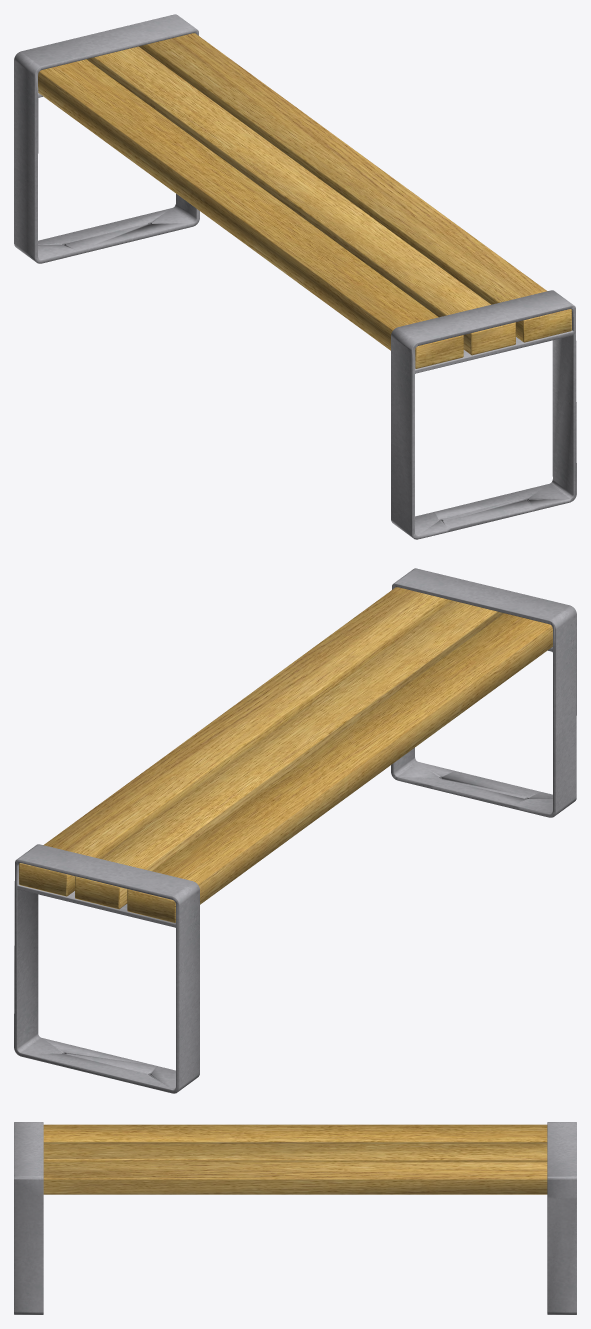
3 renders of one model, top to bottom at view 1: azimuth 30°, elevation 25°; view 2: azimuth 150°, elevation 25°; view 3: azimuth 270°, elevation 25°, orthographic. The views are drawn at different scales.
Visible parts, largest first — view 1: Plane.001, Plane.002; view 2: Plane.001, Plane.002; view 3: Plane.001, Plane.002.
Boxes of the visible parts, box(x1,y1,x2,y2) form: Plane.001: box(38, 33, 571, 368); Plane.002: box(14, 14, 576, 539); Plane.001: box(19, 587, 552, 922); Plane.002: box(14, 568, 576, 1093); Plane.001: box(43, 1124, 547, 1194); Plane.002: box(14, 1122, 576, 1314).
Bounding box in the file's own units: 0.4566 × 0.52 × 1.9.
Materials: 2 (2 with a texture image).
